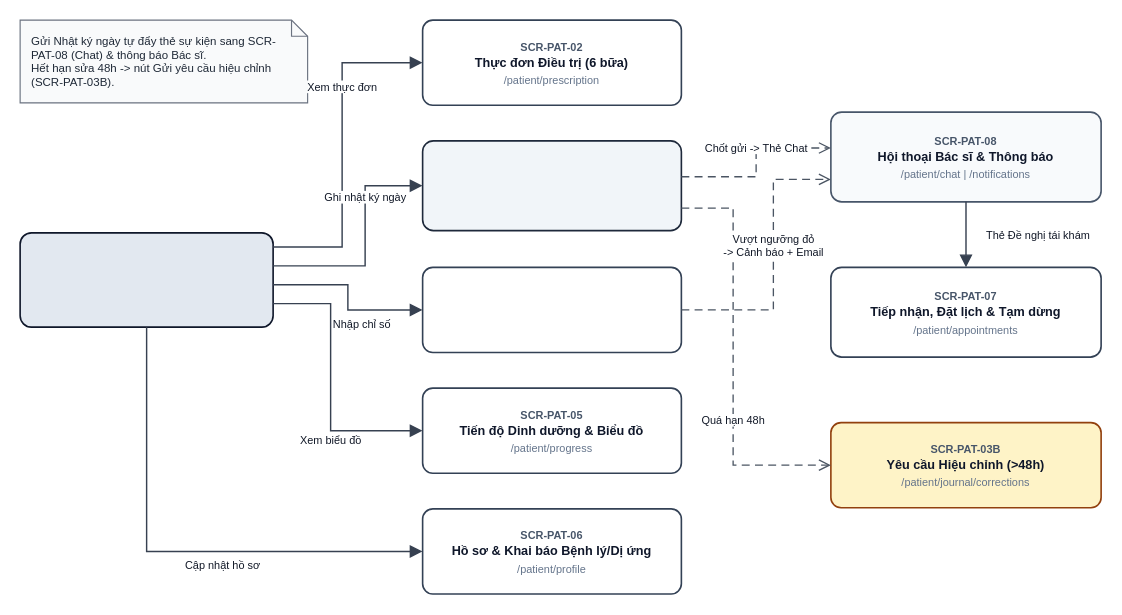
This 1122x615 diagram has some shape labels left out. The box of each missing label's shape, as (x1, y1, x2, y2) in pixels:
SCR-PAT-01 Trang chủ Bệnh nhân (Hôm nay) /patient/today: (19, 231, 273, 327)
SCR-PAT-03 Nhật ký Ăn uống & Nước (48h) /patient/journal: (421, 139, 682, 231)
SCR-PAT-04 Ghi Chỉ số Sức khỏe /patient/metrics: (421, 266, 682, 353)
